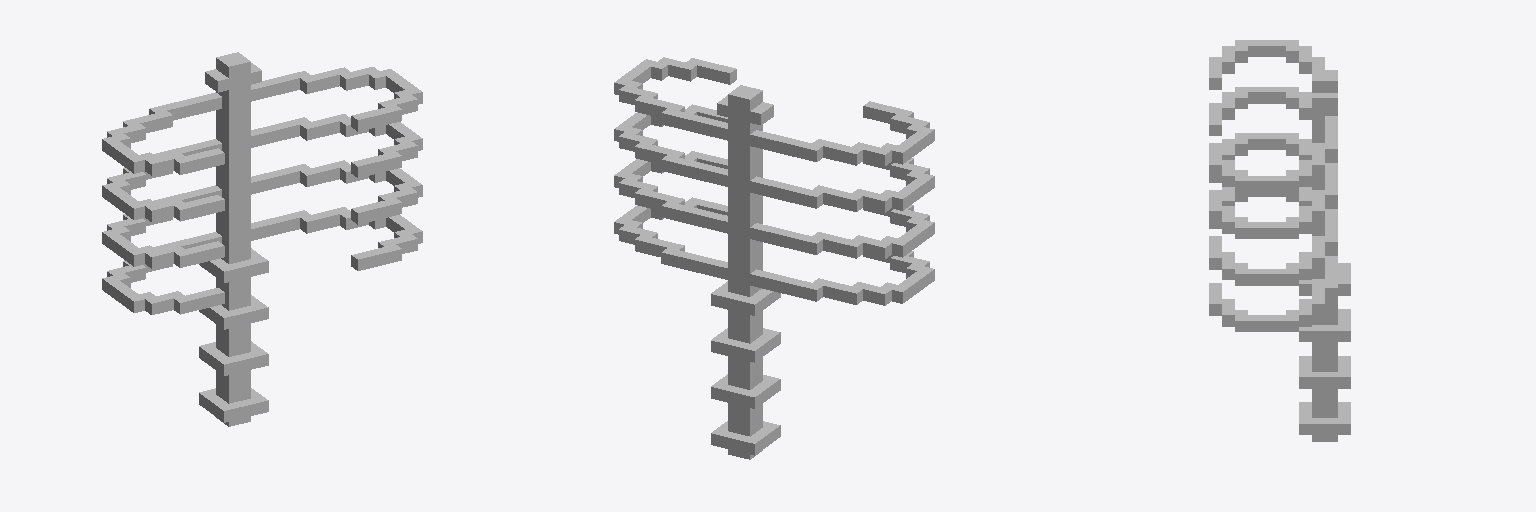
File: Chest.obj
3 views of the same model, side by side, from view 1: azimuth 30°, elevation 25°; view 2: azimuth 150°, elevation 25°; view 3: azimuth 270°, elevation 25° (orthographic).
Parts seen in each view (by area): view 1: object 1; view 2: object 1; view 3: object 1.
Part boxes in pixels (x1,y1,x2,y2): object 1: (102,52,422,426); object 1: (614,57,934,459); object 1: (1209,40,1350,441).
Bounding box in the file's own units: 2.6 × 3.1 × 1.1.